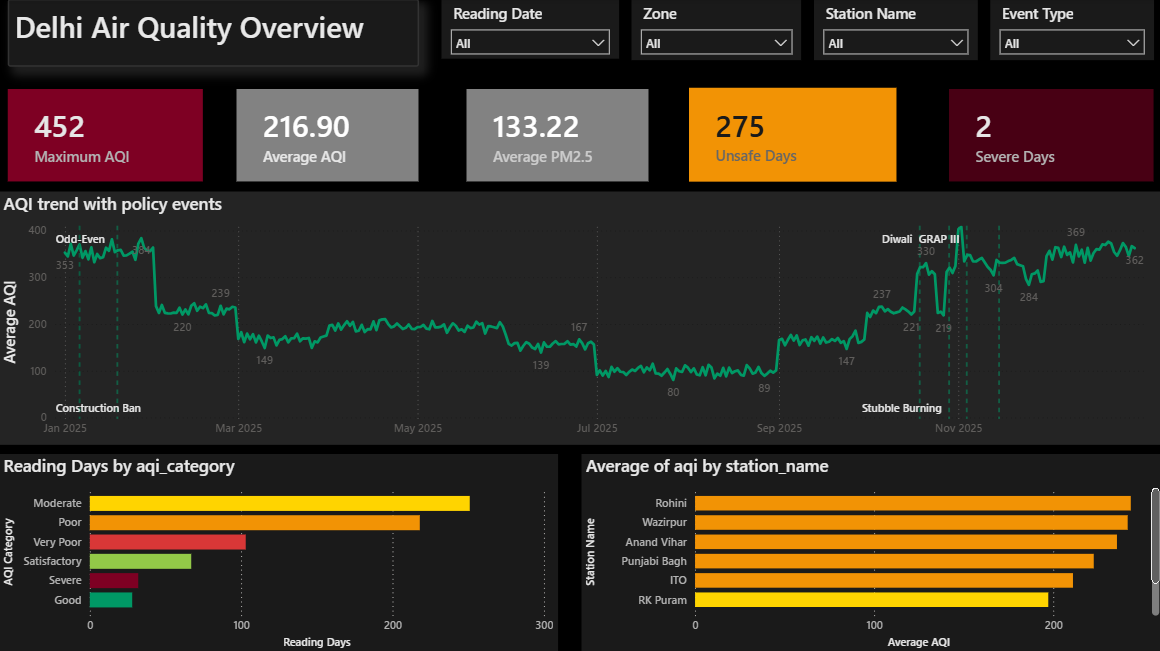

The dashboard page shown, as its layout file describes it:
{"tool":"powerbi","page":{"name":"Page 1","canvas":[1280,720],"ordinal":0},"visuals":[{"type":"textbox","box":[9.6,0,451.9,74.2],"z":0},{"type":"slicer","fields":{"Values":["delhiaqi stations.station_name"]},"box":[896.1,0,179.8,67.2],"z":1000},{"type":"slicer","fields":{"Values":["delhiaqi policy_events.event_name"]},"box":[1089.5,0,179.8,67.2],"z":2000},{"type":"slicer","fields":{"Values":["delhiaqi stations.zone"]},"box":[695.7,0,186.6,67.2],"z":3000},{"type":"slicer","fields":{"Values":["delhiaqi aqi_readings.reading_date"]},"box":[485.8,0,194.9,65.9],"z":4000},{"type":"cardVisual","fields":{"Data":["_Measures.Maximum AQI"]},"box":[9.6,98.8,214.1,101.5],"z":5000},{"type":"cardVisual","fields":{"Data":["_Measures.Average AQI"]},"box":[260.7,98.8,200.3,101.5],"z":6000},{"type":"cardVisual","fields":{"Data":["_Measures.Unsafe Days"]},"box":[758.8,97.4,227.8,102.9],"z":7000},{"type":"cardVisual","fields":{"Data":["_Measures.Severe Days"]},"box":[1044.3,98.8,225,101.5],"z":8000},{"type":"cardVisual","fields":{"Data":["_Measures.Average PM2.5"]},"box":[513.2,98.8,200.3,101.5],"z":9000},{"type":"lineChart","title":"AQI trend with policy events","fields":{"Category":["delhiaqi dim_date.date_key"],"Y":["_Measures.Average AQI"]},"box":[0,211.3,1280.3,278.6],"z":10000},{"type":"barChart","fields":{"Category":["delhiaqi aqi_readings.aqi_category"],"Y":["_Measures.Reading Days"]},"box":[0,500,614,219.8],"z":11000},{"type":"barChart","fields":{"Category":["delhiaqi stations.station_name"],"Y":["Avg(delhiaqi aqi_readings.aqi)"]},"box":[640.1,500,640.1,219.8],"z":12000}]}

Visuals, with their boxes in screenshot pixels (x1, y1, x2, y2), scaled from the page's 1280x720 canvas onto the 1160x651 screenshot:
textbox: select_region(9, 0, 418, 67)
slicer - delhiaqi stations.station_name: select_region(812, 0, 975, 61)
slicer - delhiaqi policy_events.event_name: select_region(987, 0, 1150, 61)
slicer - delhiaqi stations.zone: select_region(630, 0, 800, 61)
slicer - delhiaqi aqi_readings.reading_date: select_region(440, 0, 617, 60)
cardVisual - _Measures.Maximum AQI: select_region(9, 89, 203, 181)
cardVisual - _Measures.Average AQI: select_region(236, 89, 418, 181)
cardVisual - _Measures.Unsafe Days: select_region(688, 88, 894, 181)
cardVisual - _Measures.Severe Days: select_region(946, 89, 1150, 181)
cardVisual - _Measures.Average PM2.5: select_region(465, 89, 647, 181)
"AQI trend with policy events" lineChart: select_region(0, 191, 1159, 443)
barChart - delhiaqi aqi_readings.aqi_category x _Measures.Reading Days: select_region(0, 452, 556, 650)
barChart - delhiaqi stations.station_name x Avg(delhiaqi aqi_readings.aqi): select_region(580, 452, 1159, 650)
